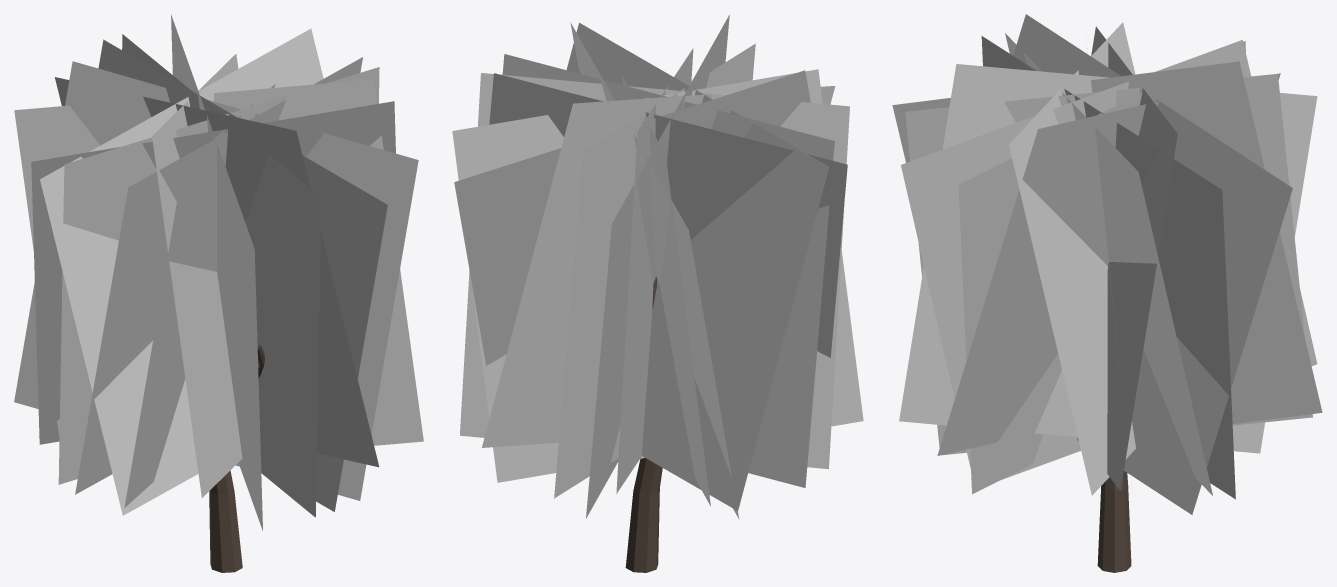
Rendered from Tree9.fbx.
3 renders of one model, left to right at view 1: azimuth 30°, elevation 25°; view 2: azimuth 150°, elevation 25°; view 3: azimuth 270°, elevation 25°, orthographic.
Parts seen in each view (by area): view 1: Cylinder; view 2: Cylinder; view 3: Cylinder.
Part boxes in pixels (x1,y1,x2,y2): Cylinder: (14,14,423,572); Cylinder: (452,15,863,572); Cylinder: (892,14,1322,572).
Bounding box in the file's own units: 1278 × 1682 × 1292.
